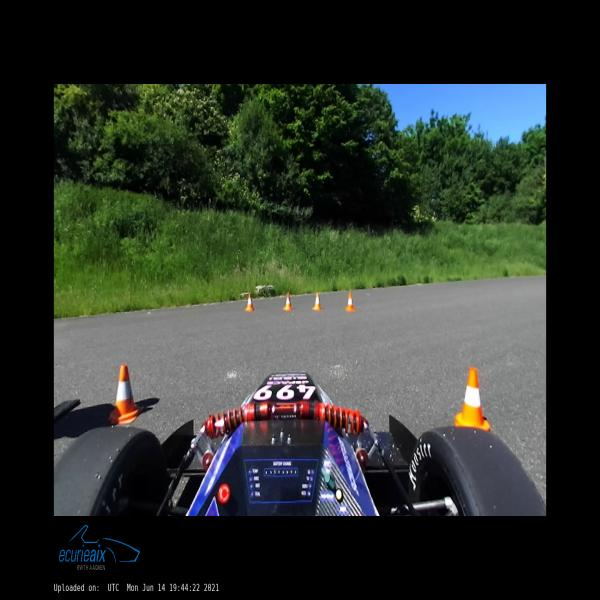orange_cone: (455, 367, 490, 433), (109, 365, 144, 423), (312, 293, 322, 310), (246, 295, 255, 312), (284, 293, 292, 311), (346, 293, 354, 311)
